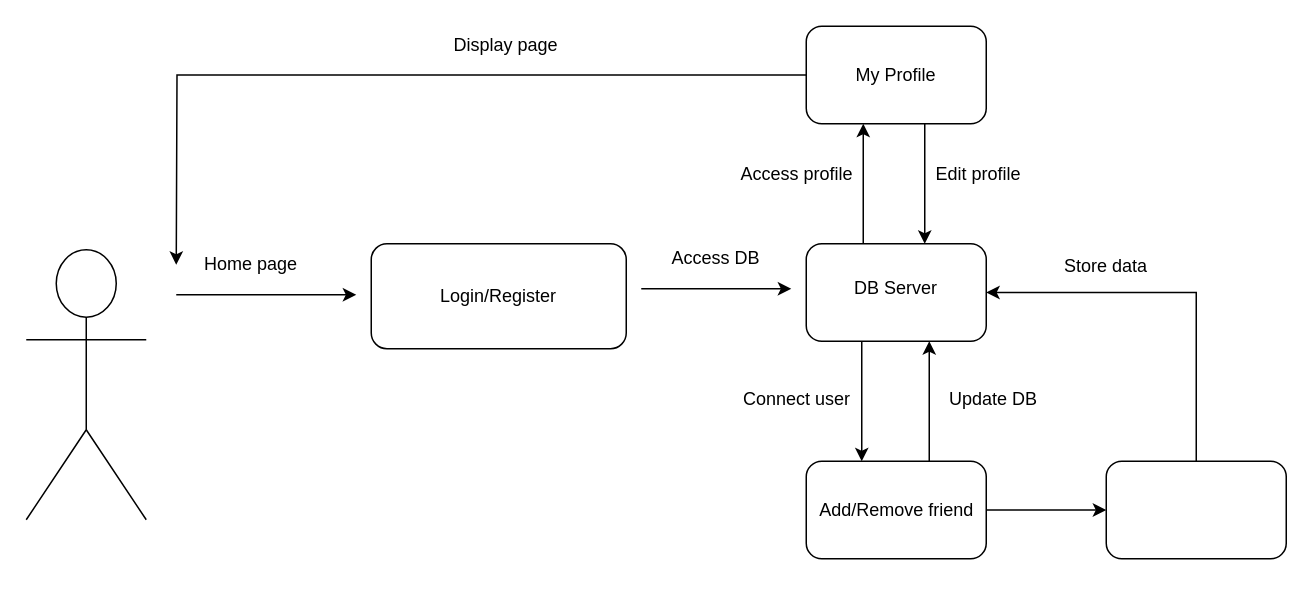
Some shapes in this 1313 by 600 pixel diagram are drawn without their labels. The shapes that lost their labels are listed below. From the top down, each one's box as (x1, y1, x2, y2) in pixels, then its label:
(25, 248, 146, 520): User
(1105, 460, 1286, 559): Send message
